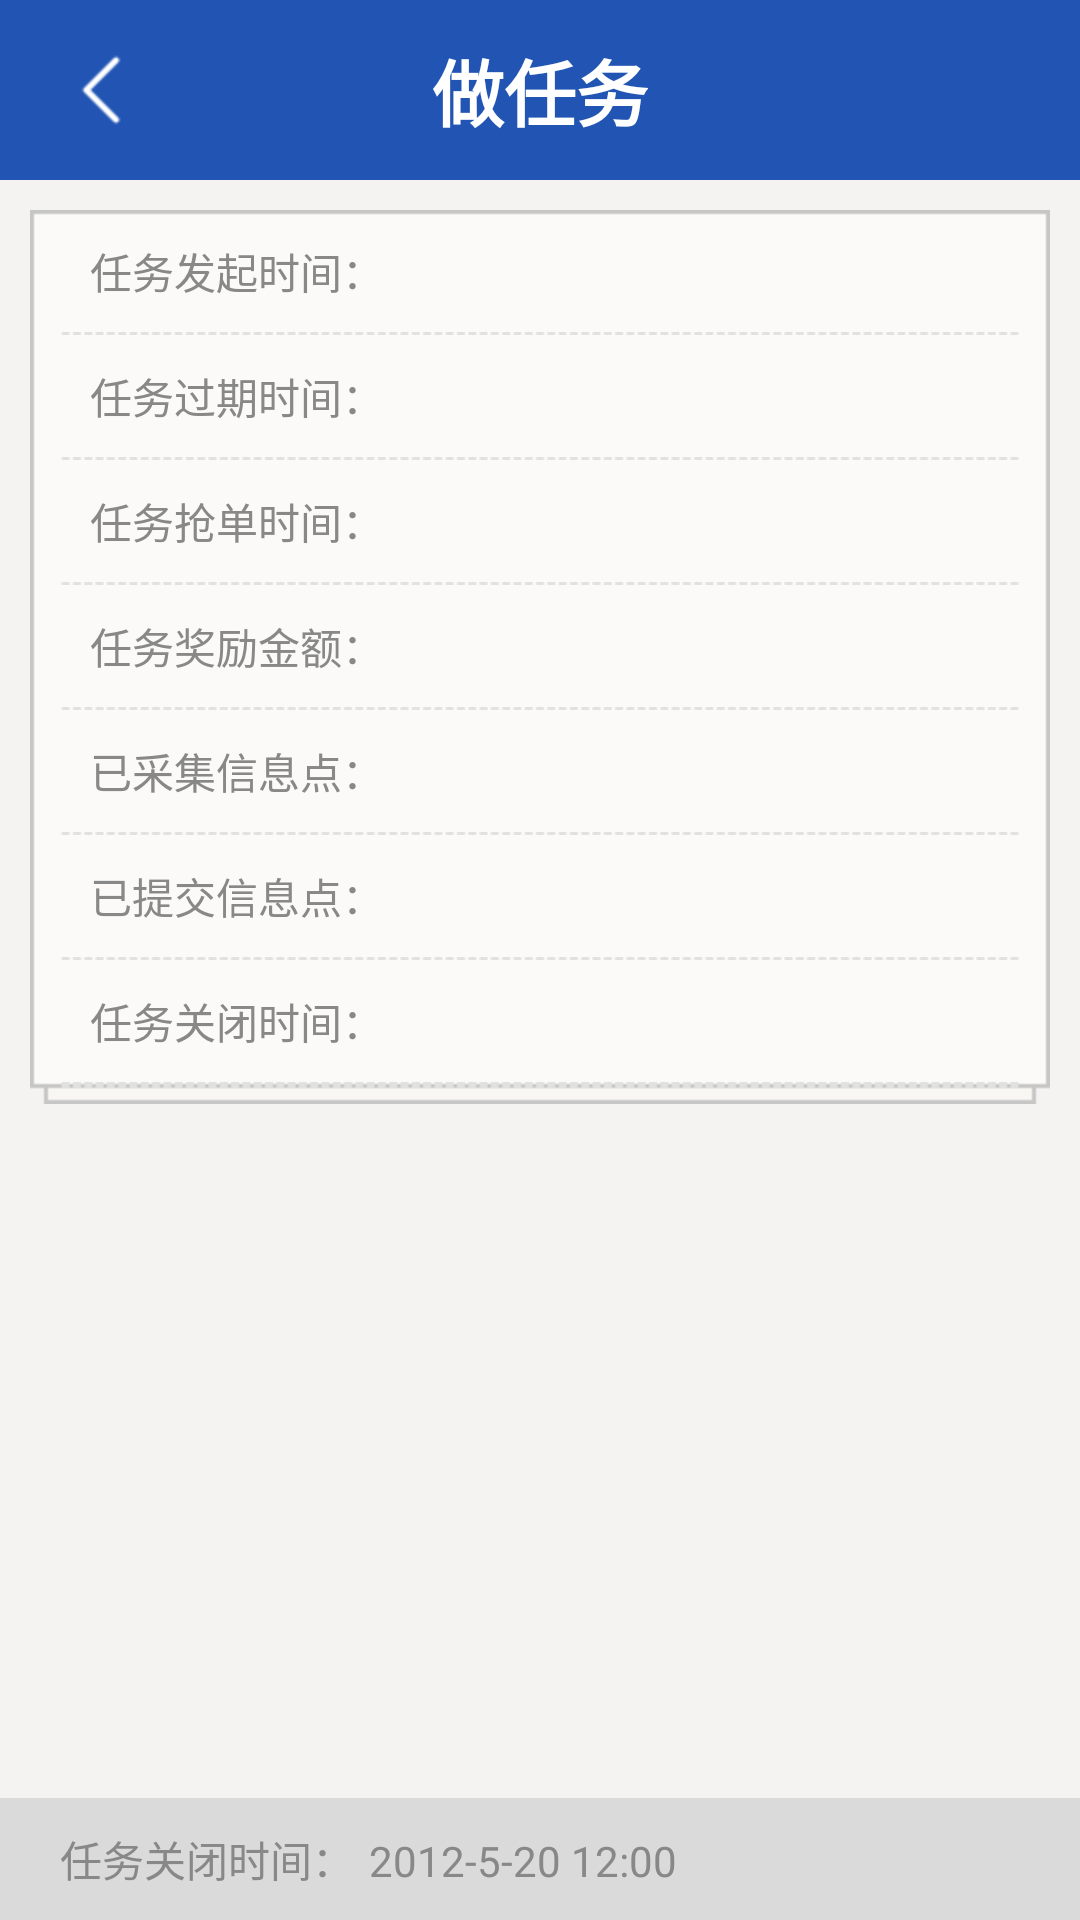

Icon bounding boxes for this 1080 x 1920 phone screenshot, format (x1, y1, x2, y2):
back: (82, 56, 120, 124)
